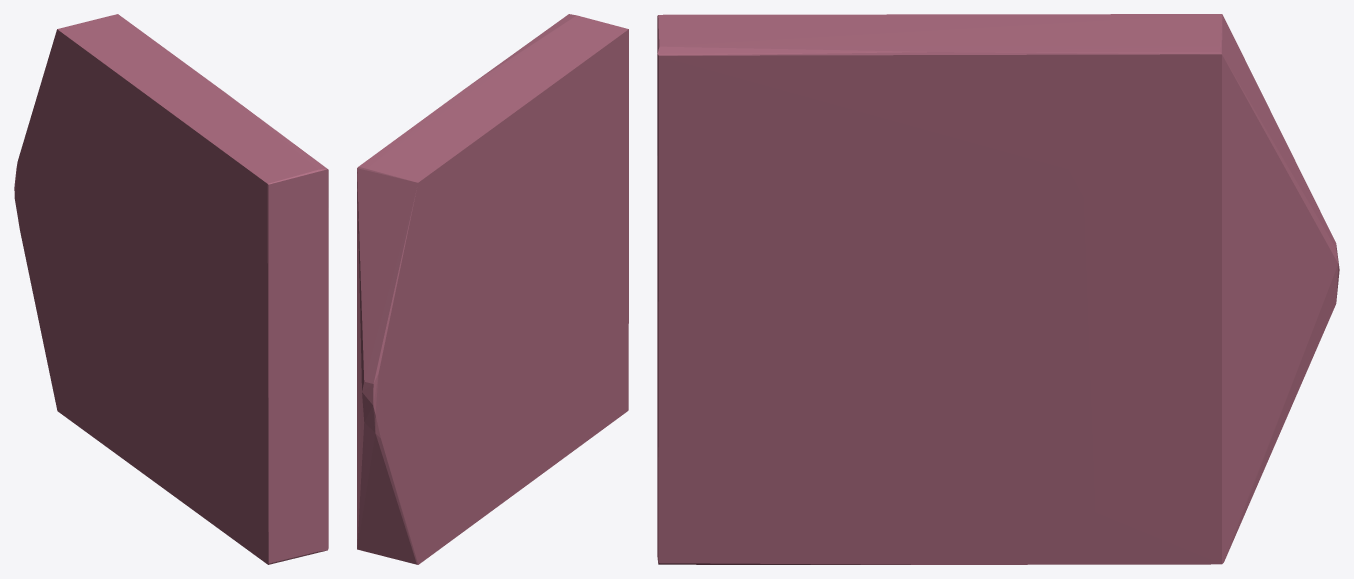
File: socket_b02.glb
3 renders of one model, left to right at view 1: azimuth 30°, elevation 25°; view 2: azimuth 150°, elevation 25°; view 3: azimuth 270°, elevation 25°, orthographic. The views are drawn at different scales.
Parts seen in each view (by area): view 1: geometry_0; view 2: geometry_0; view 3: geometry_0.
Part boxes in pixels (box(x1,y1,x2,y2)): geometry_0: box(14, 14, 328, 564); geometry_0: box(357, 14, 628, 564); geometry_0: box(657, 14, 1339, 564).
Size of the model in its own units: 0.0666 by 0.3977 by 0.4796.
